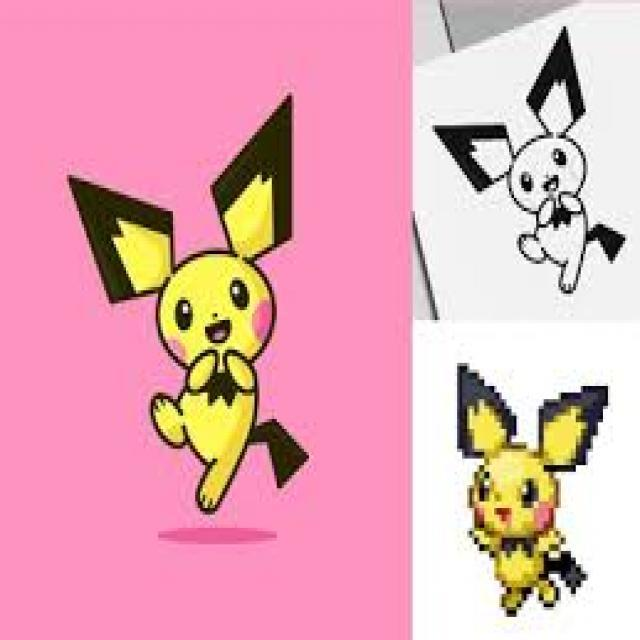pichu: (70, 94, 330, 544), (446, 72, 626, 300), (462, 356, 604, 615)
